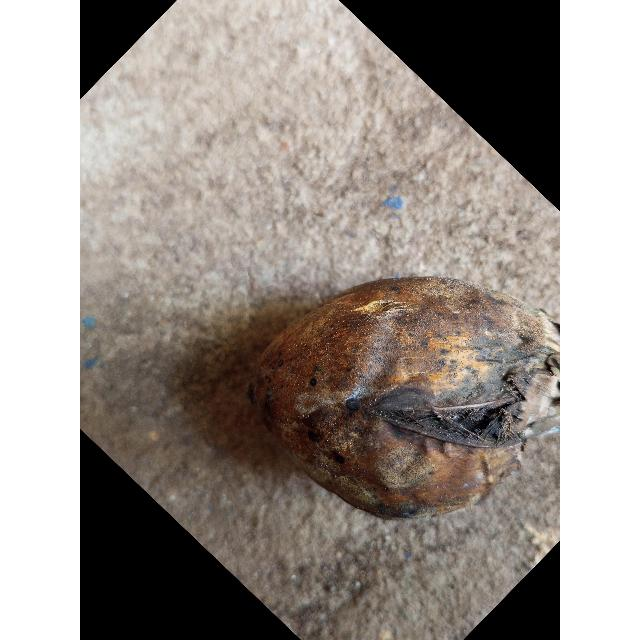damaged: (247, 277, 560, 523)
